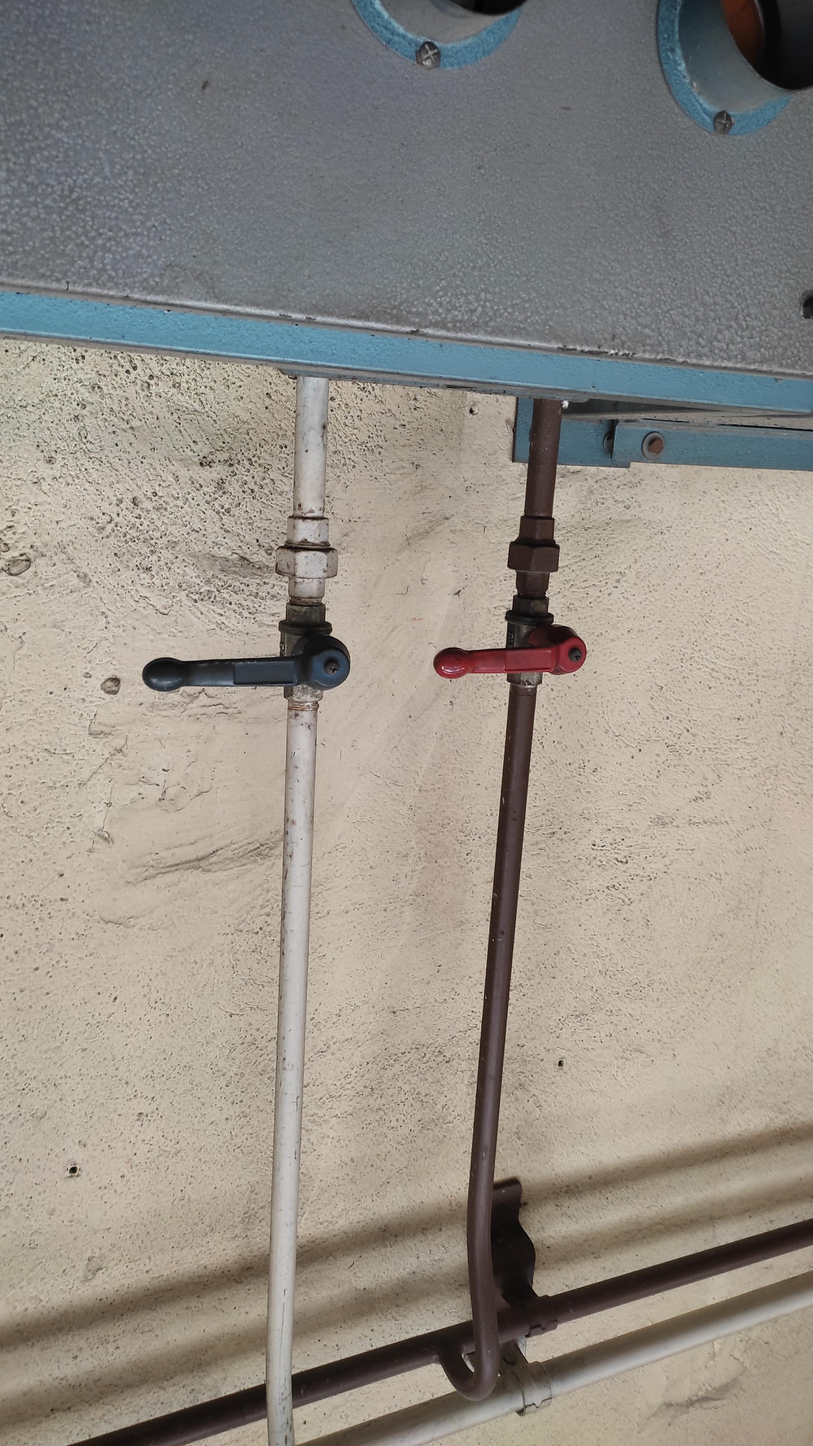closed valve: (139, 601, 352, 708), (433, 593, 589, 689)
